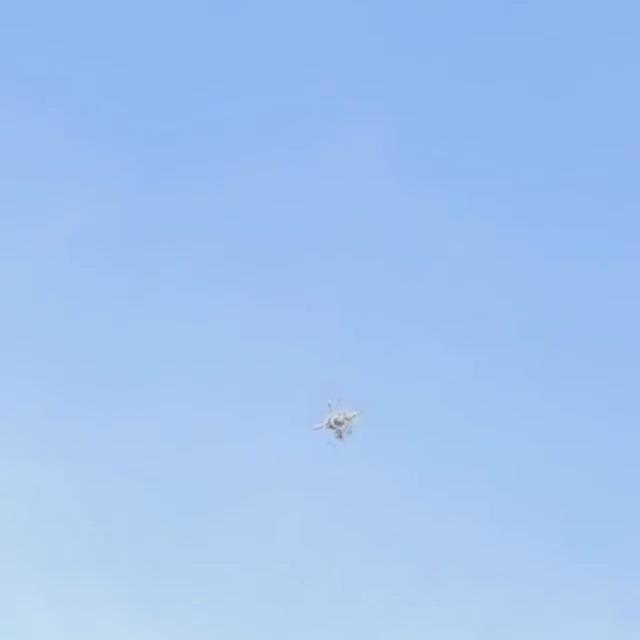drone: (312, 403, 356, 448)
